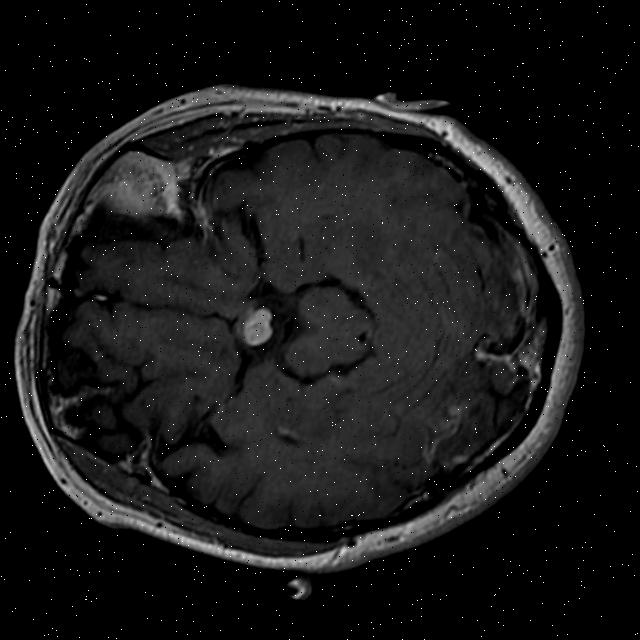Pituitary: (236, 300, 279, 349)
